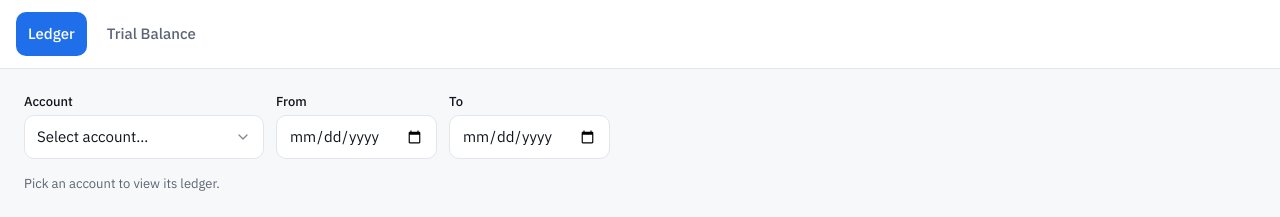
Test case: LedgerPage › renders the trial balance with a totals row
Click the button "Trial Balance": (151, 34) x1=95 y1=12 x2=208 y2=56
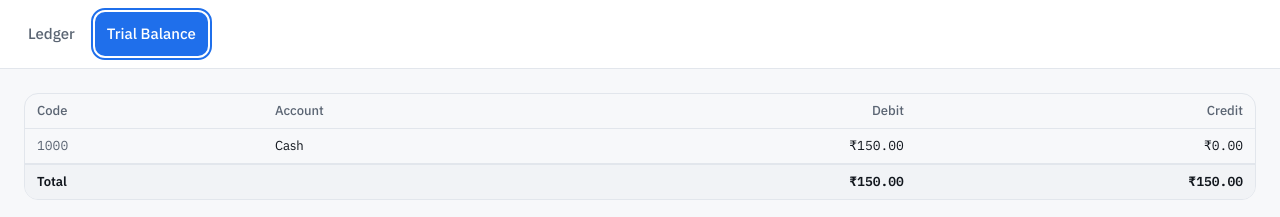
Now the text "Total" is shown, box x1=25 y1=164 x2=577 y2=199
Now the text "Cash" is shown, box x1=263 y1=128 x2=577 y2=164
